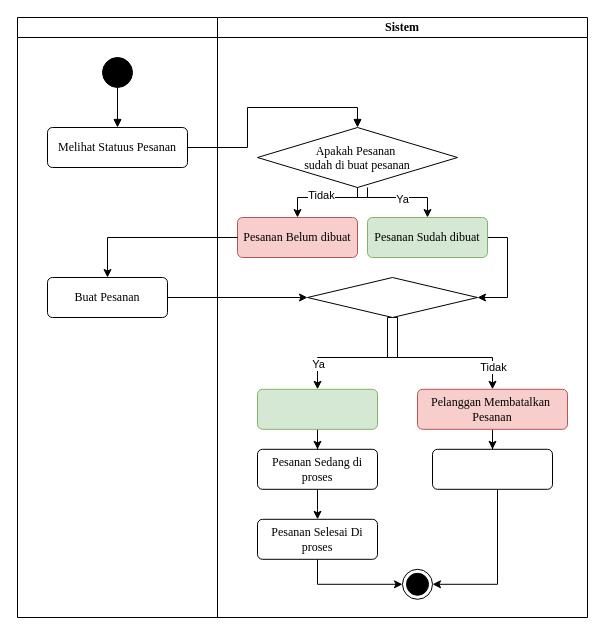
Some shapes in this 605 by 635 pixel diagram are drawn without their labels. Here are the shapes that lost their labels. From the top down, the box of each, then its label:
(16, 16, 218, 618): Penjual
(306, 276, 478, 318): Apakan pesanan sudah di proses
(256, 388, 378, 429): Pesanan akan diproses
(432, 448, 552, 489): Pesanan dibatalkan
